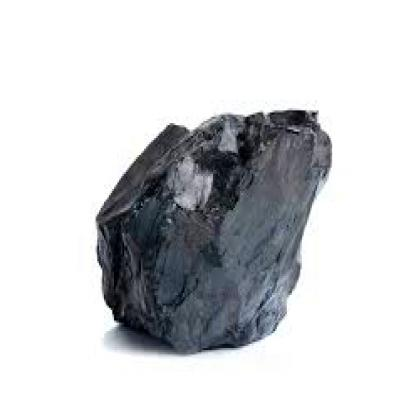Sedimentary_coal: (87, 87, 330, 382)
